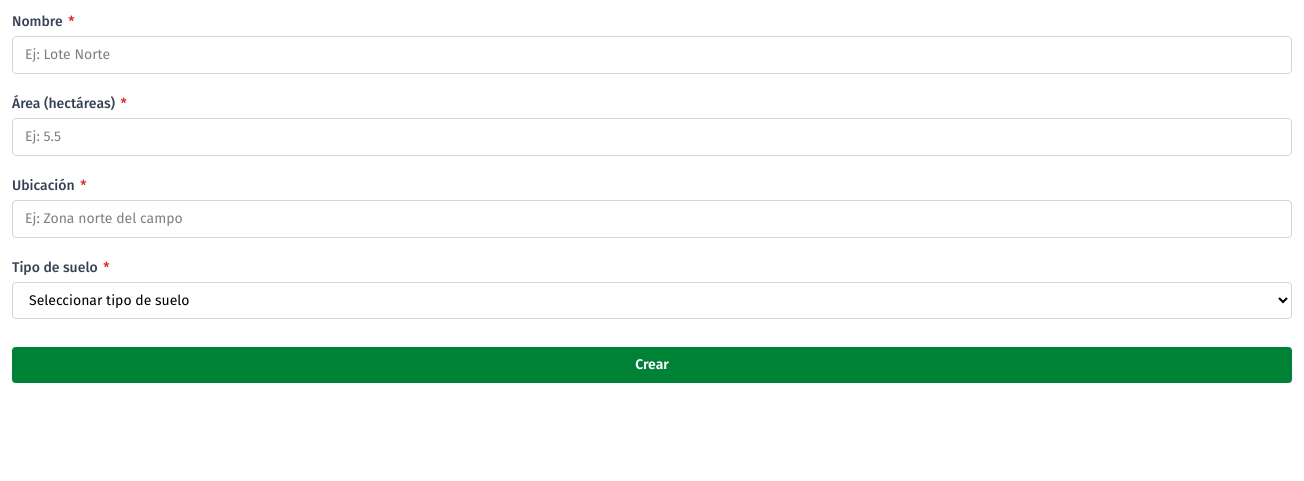
Scenario: ParcelForm › shows validation error for empty name
What coordinates should you click on to do the following:
click the button "Crear"
I would click on:
 (652, 365)
Its box is 12,347 -> 1292,383.
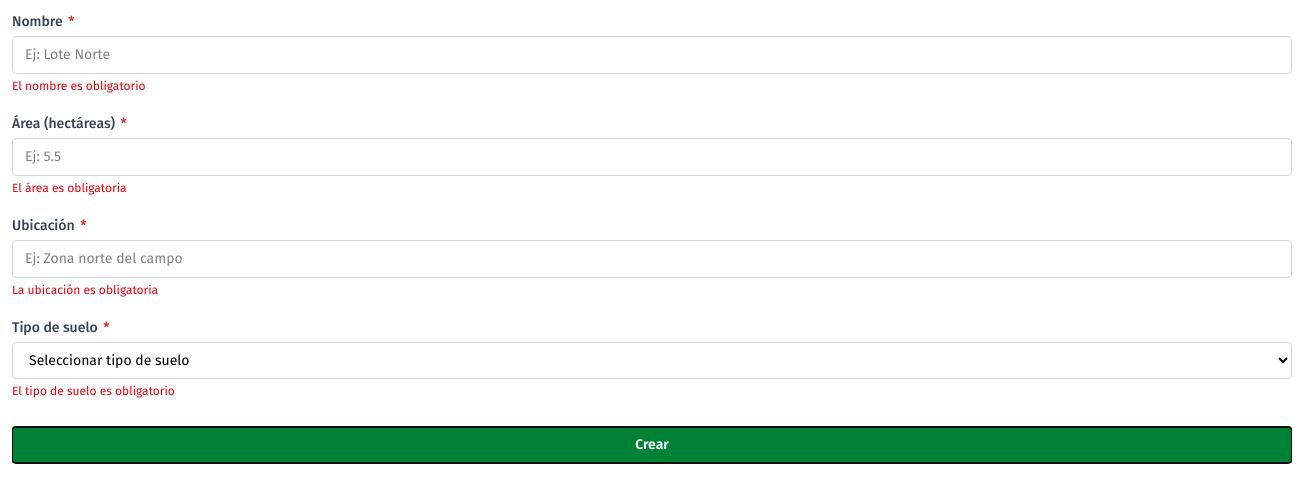
Check: the text "El nombre es obligatorio" is shown, box 12,79 -> 146,93
